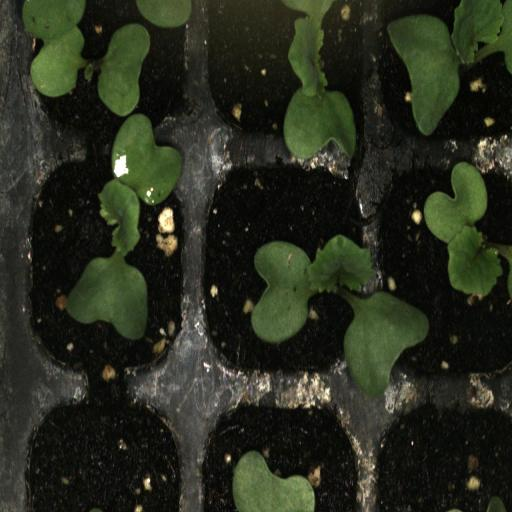Folha: (0, 0, 87, 98), (232, 450, 316, 512)
Germinacao: (190, 152, 380, 392), (18, 150, 190, 382), (380, 149, 512, 391), (11, 0, 198, 151), (197, 0, 374, 153), (376, 0, 512, 146)
